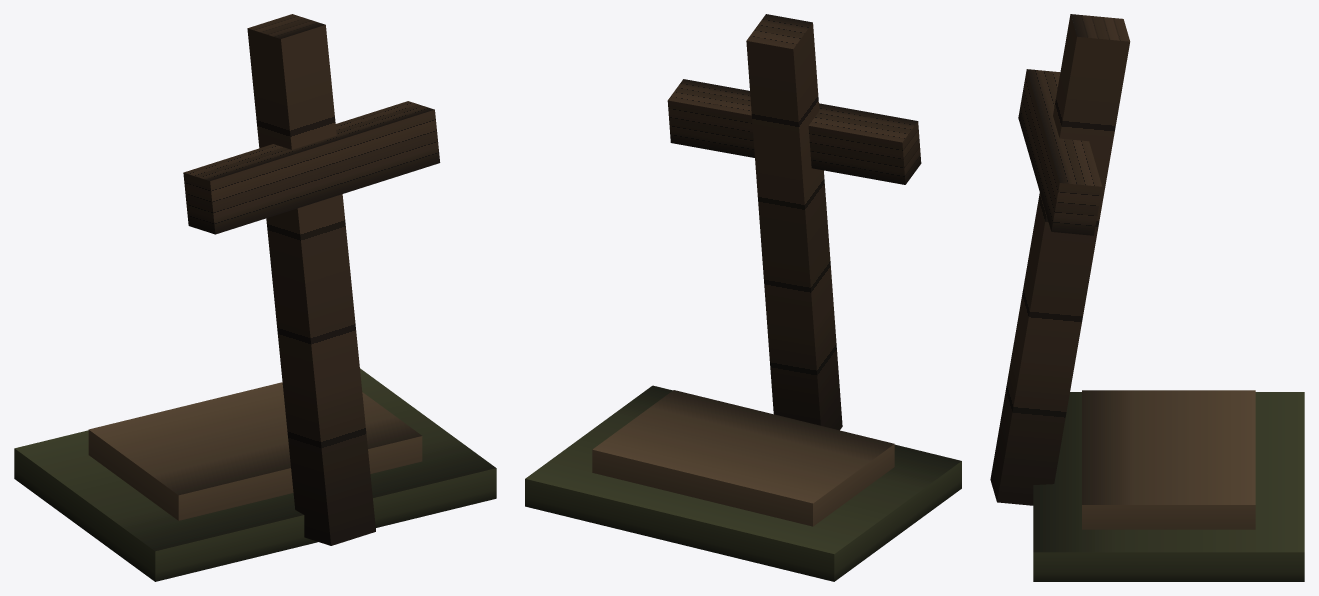
Rendered from grave_cross.glb.
3 renders of one model, left to right at view 1: azimuth 30°, elevation 25°; view 2: azimuth 150°, elevation 25°; view 3: azimuth 270°, elevation 25°, orthographic. The views are drawn at different scales.
Parts seen in each view (by area): view 1: grave_cross; view 2: grave_cross; view 3: grave_cross.
Part boxes in pixels (x1,y1,x2,y2): grave_cross: (14, 14, 496, 581); grave_cross: (525, 14, 961, 581); grave_cross: (990, 14, 1304, 581).
Size of the model in its own units: 0.7 by 0.967 by 0.5789.
Materials: 1 (1 with a texture image).
